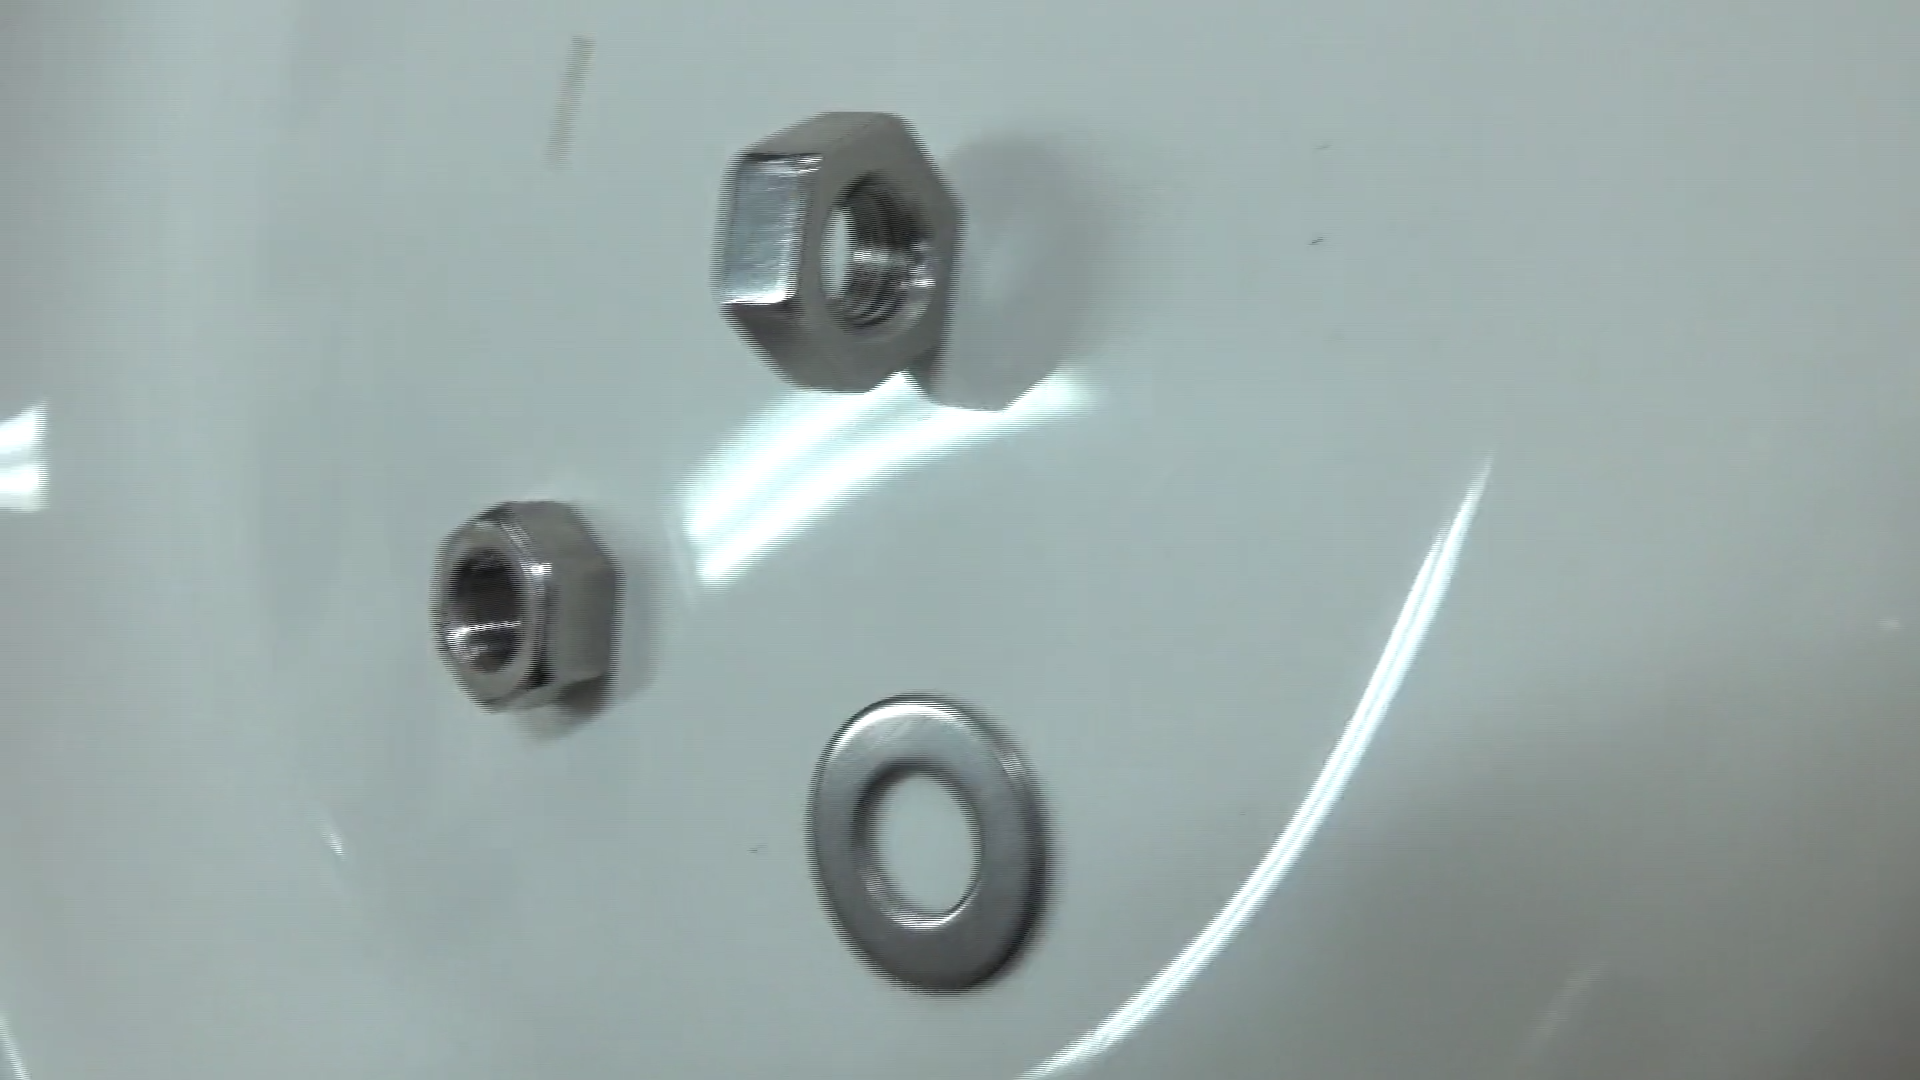nut: (663, 75, 1002, 429), (400, 471, 644, 738)
washer: (775, 676, 1077, 1017)
